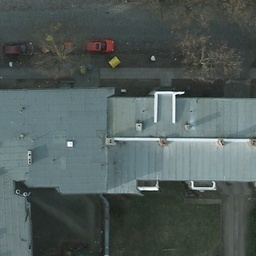car: (84, 36, 118, 54), (37, 39, 74, 54), (4, 39, 33, 56)
